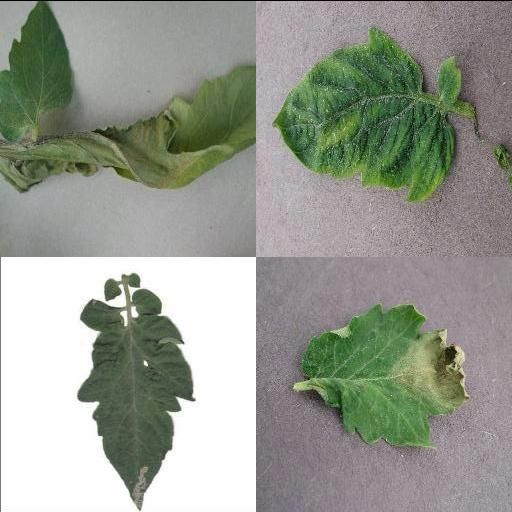Healthy: (0, 0, 76, 141)
Late Blight: (0, 63, 256, 191), (301, 303, 471, 447)
Leaf Miner: (73, 312, 195, 511)
Yellow Leaf Curl Virus: (272, 24, 456, 202)
